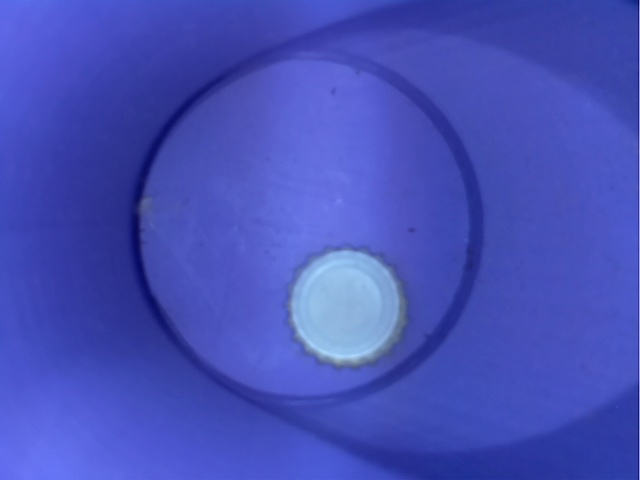capsule: (279, 229, 417, 376)
